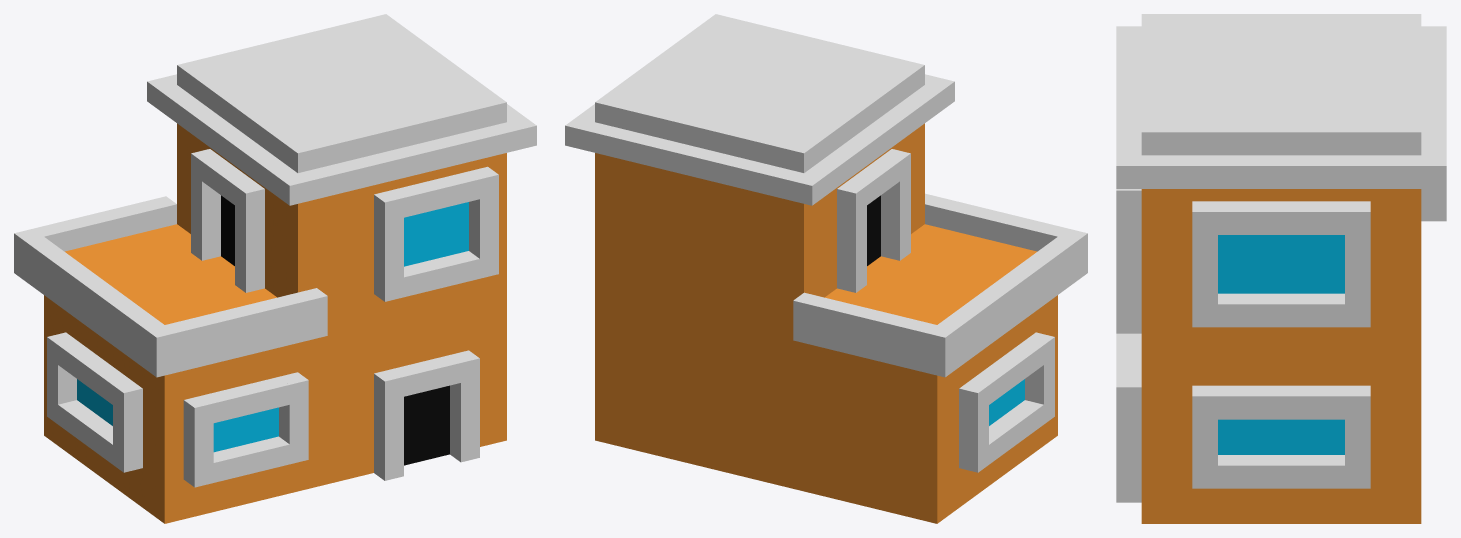
The model's file is casa2.fbx.
3 renders of one model, left to right at view 1: azimuth 30°, elevation 25°; view 2: azimuth 150°, elevation 25°; view 3: azimuth 270°, elevation 25°, orthographic. The views are drawn at different scales.
Parts seen in each view (by area): view 1: Cubo.1883; view 2: Cubo.1883; view 3: Cubo.1883.
Boxes of the visible parts, x1=… form: Cubo.1883: x1=14, y1=14, x2=536, y2=523; Cubo.1883: x1=565, y1=14, x2=1087, y2=523; Cubo.1883: x1=1116, y1=14, x2=1446, y2=523.
Size of the model in its own units: 2000 by 1700 by 1300.
